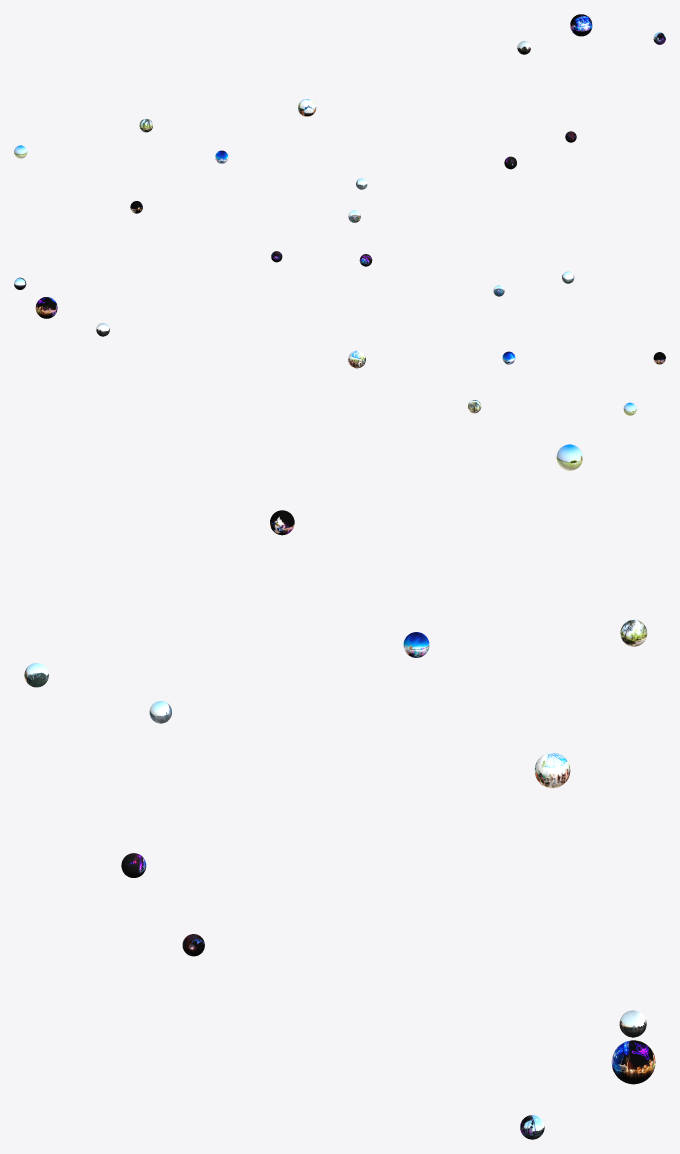
File: sam domes 2.glb
3 views of the same model, one above another, from view 1: azimuth 30°, elevation 25°; view 2: azimuth 150°, elevation 25°; view 3: azimuth 270°, elevation 25° (orthographic). The views are drawn at different scales.
Visible parts, largest first — view 1: S3-1; view 2: S3-1, S4-1; view 3: S3-1, S4-1.
Boxes of the visible parts, x1=… form: S3-1: x1=570, y1=14, x2=592, y2=36; S3-1: x1=35, y1=297, x2=57, y2=318; S4-1: x1=348, y1=350, x2=365, y2=368; S3-1: x1=611, y1=1040, x2=655, y2=1084; S4-1: x1=534, y1=752, x2=570, y2=788.
Size of what is drawn, in the model's own units: 79.12 by 5.5 by 34.31.
24 materials, 24 textured.
